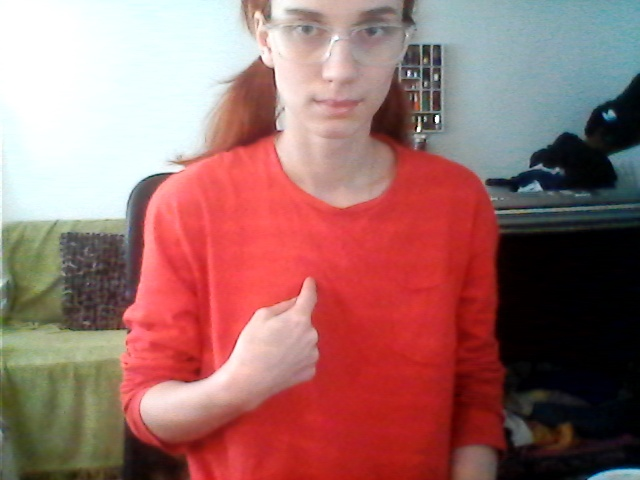ja: (236, 269, 342, 421)
